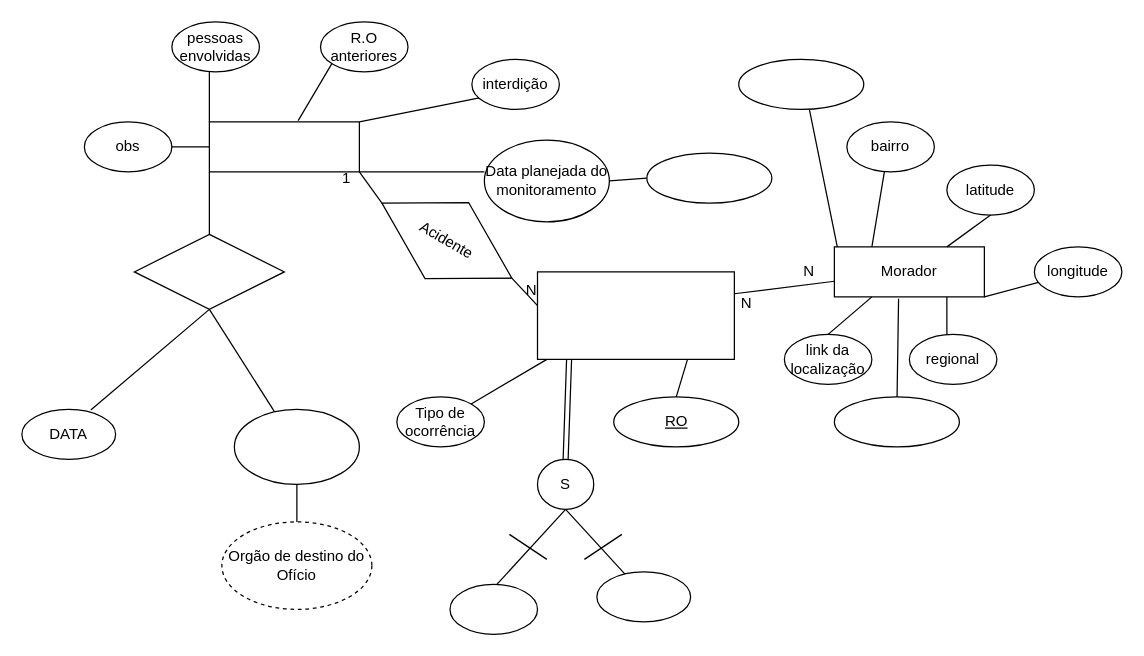
Some shapes in this 1144 by 656 pixel diagram are drawn without their labels. Each missing label, with the centre of its shape:
endereço: (x=801, y=83)
Equipe: (x=283, y=146)
Fato Ocorrido: (x=643, y=596)
INFORMA: (x=208, y=271)
monitoramento: (x=709, y=177)
Numero do oficio encaminhado: (x=296, y=446)
Risco de ocorrer: (x=493, y=608)
Risco de Vida: (x=635, y=315)
telefone de contato: (x=896, y=421)
